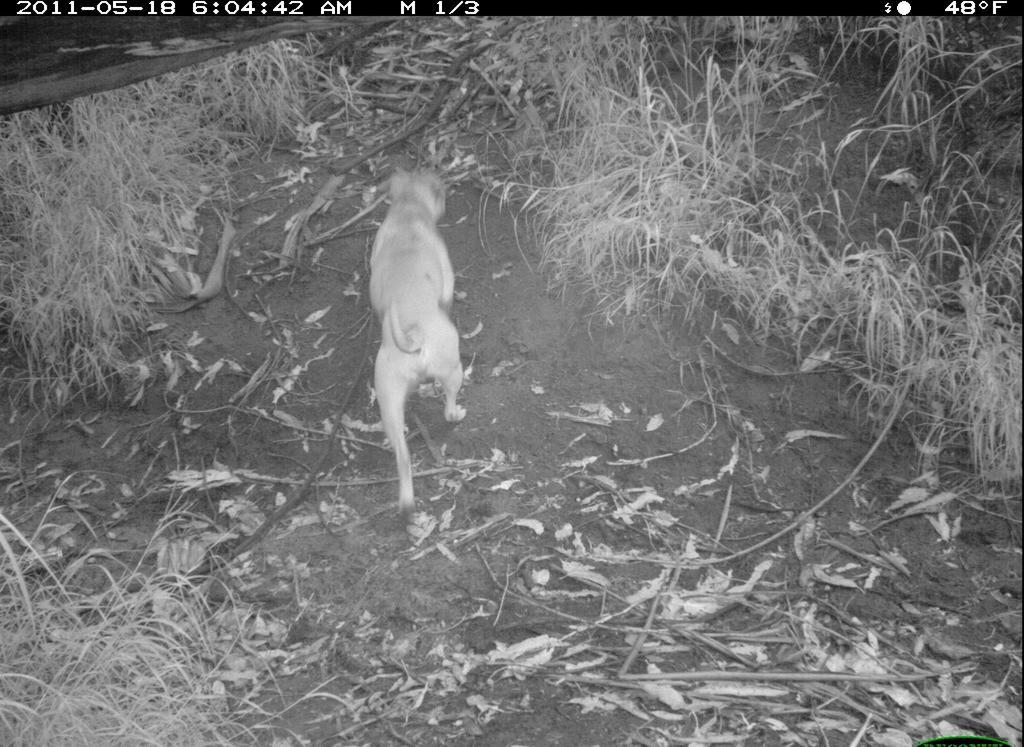dog: (356, 134, 475, 523)
